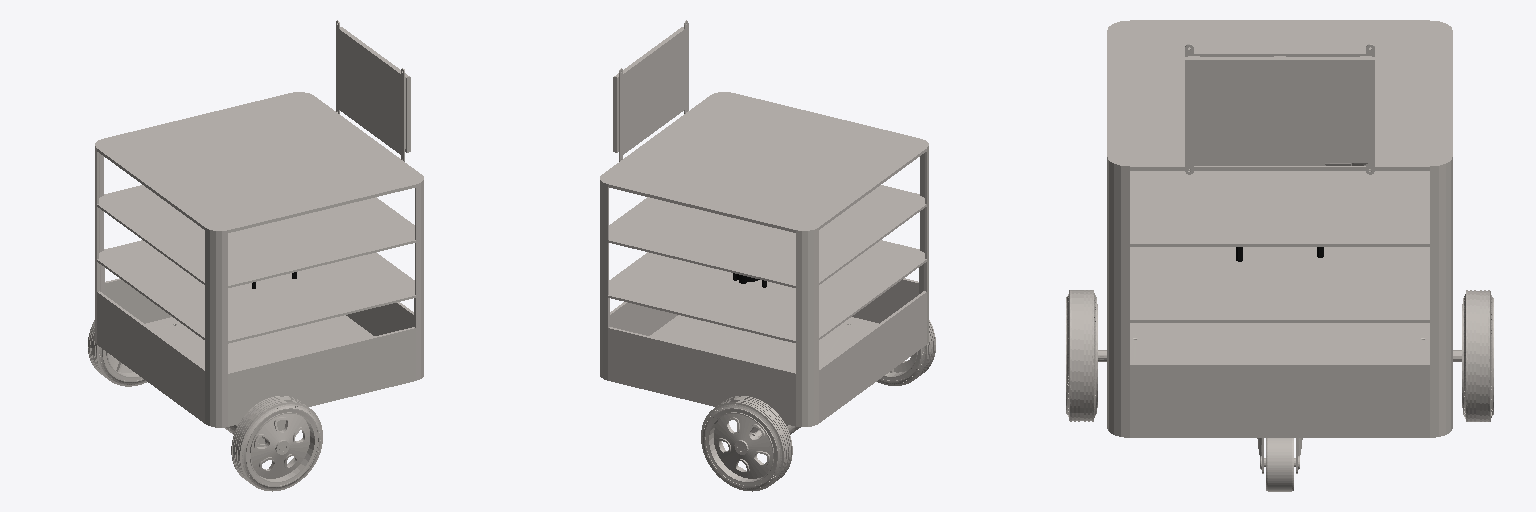
URDF robot description (urdf_robot):
<?xml version="1.0" encoding="utf-8"?>
<!-- This URDF was automatically created by SolidWorks to URDF Exporter! Originally created by [author] ([email redacted]) 
     Commit Version: 1.6.0-4-g7f85cfe  Build Version: 1.6.7995.38578
     For more information, please see http://wiki.ros.org/sw_urdf_exporter -->
<robot
  name="urdf_robot">
  <link
    name="base_link">
    <inertial>
      <origin
        xyz="-0.0018753 4.2862E-07 0.11305"
        rpy="0 0 0" />
      <mass
        value="13.126" />
      <inertia
        ixx="0.11904"
        ixy="-1.2736E-06"
        ixz="2.7628E-06"
        iyy="0.11855"
        iyz="-1.0357E-06"
        izz="0.22928" />
    </inertial>
    <visual>
      <origin
        xyz="0 0 0"
        rpy="0 0 0" />
      <geometry>
        <mesh
          filename="package://urdf_robot/meshes/base_link.STL" />
      </geometry>
      <material
        name="">
        <color
          rgba="0.77647 0.75686 0.73725 1" />
      </material>
    </visual>
    <collision>
      <origin
        xyz="0 0 0"
        rpy="0 0 0" />
      <geometry>
        <mesh
          filename="package://urdf_robot/meshes/base_link.STL" />
      </geometry>
    </collision>
  </link>
  <link
    name="base_scan">
    <inertial>
      <origin
        xyz="0.0057843 -0.00049512 -0.014438"
        rpy="0 0 0" />
      <mass
        value="0.14299" />
      <inertia
        ixx="4.6277E-05"
        ixy="8.5363E-07"
        ixz="-3.6218E-06"
        iyy="7.3475E-05"
        iyz="-2.0429E-07"
        izz="0.00010796" />
    </inertial>
    <visual>
      <origin
        xyz="0 0 0"
        rpy="0 0 0" />
      <geometry>
        <mesh
          filename="package://urdf_robot/meshes/base_scan.STL" />
      </geometry>
      <material
        name="">
        <color
          rgba="0.10196 0.10196 0.10196 1" />
      </material>
    </visual>
    <collision>
      <origin
        xyz="0 0 0"
        rpy="0 0 0" />
      <geometry>
        <mesh
          filename="package://urdf_robot/meshes/base_scan.STL" />
      </geometry>
    </collision>
  </link>
  <joint
    name="base_scan"
    type="revolute">
    <origin
      xyz="0 -0.007 0.1336"
      rpy="3.1416 0 1.5708" />
    <parent
      link="base_link" />
    <child
      link="base_scan" />
    <axis
      xyz="0 0 -1" />
    <limit
      lower="0"
      upper="0"
      effort="0"
      velocity="0" />
  </joint>
</robot>

--- Facts derived from the render (not from the file) ---
The picture shows the robot from 3 angles, left to right: view 1: azimuth 30°, elevation 25°; view 2: azimuth 150°, elevation 25°; view 3: azimuth 270°, elevation 25°; orthographic projection.
Model urdf_robot with 2 links and 1 joints (1 revolute), rooted at base_link, posed every joint at zero.
Links seen in each view (by area): view 1: base_link; view 2: base_link; view 3: base_link.
Link boxes in pixels (x1,y1,x2,y2): base_link: (88, 20, 423, 491); base_link: (600, 20, 935, 491); base_link: (1066, 20, 1493, 491).
Bounding box of the posed robot: 0.3115 × 0.372 × 0.4627 m (x, y, z).
Meshes: 2 distinct files referenced, 2 mesh visuals loaded (2 binary STL).